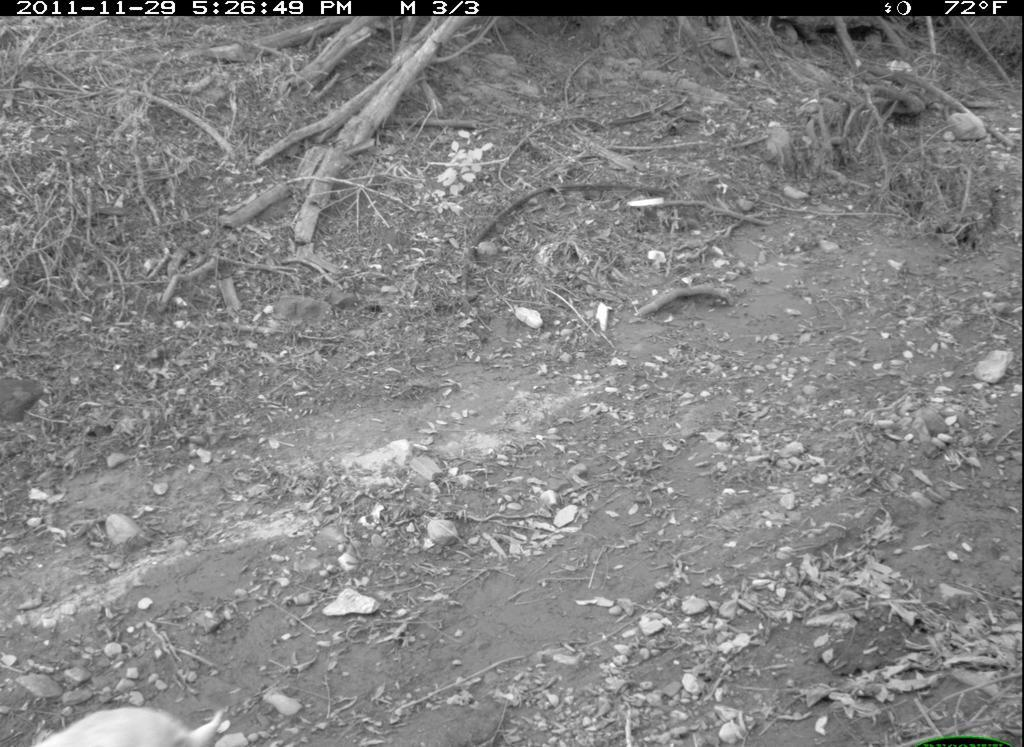dog: (17, 678, 264, 745)
